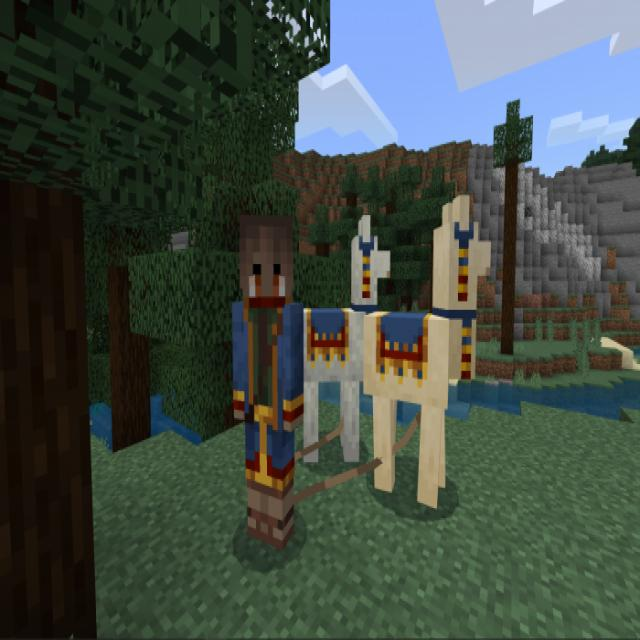Trader Lama: (366, 193, 494, 508), (300, 207, 395, 465)
